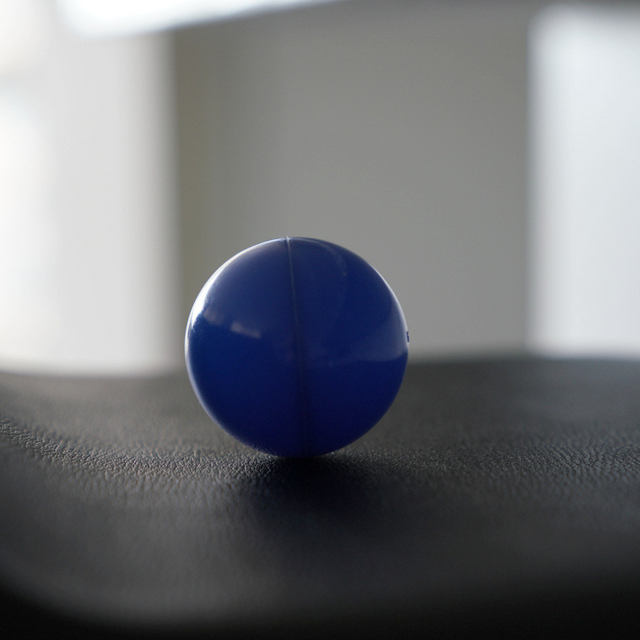Ball: (186, 236, 410, 463)
